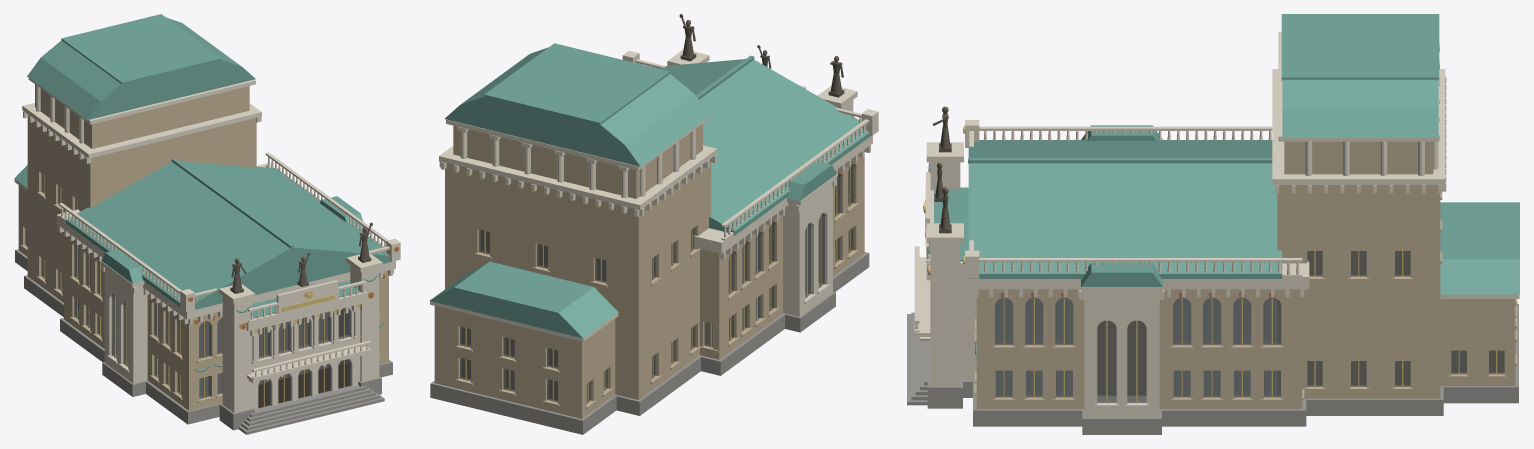
The model's file is divadlo_mlada_boleslav.glb.
The picture shows the model from 3 angles, left to right: view 1: azimuth 30°, elevation 25°; view 2: azimuth 150°, elevation 25°; view 3: azimuth 270°, elevation 25°; orthographic projection. The views are drawn at different scales.
Parts seen in each view (by area): view 1: Strechy_krytina, Vyzdoba_detail, Provaziste_jadro, Nastavba_jadro, Jeviste_bokZ_pas_horni, Pylon_Probuzeni_naroda, Vstupni_schodiste, Sokl_hlavni, Jeviste_bokZ_pas1, Pylon_Vitezstvi_umeni, Bok_Zapad_pas1, Schodiste_Zapad_pilir0_0 (+15 smaller); view 2: Strechy_krytina, Vyzdoba_detail, Jeviste_zad_pas_horni, Nastavba_jadro, Jeviste_bokZ_pas1, Jeviste_bokZ_pas_horni, Sokl_pristavba, Jeviste_zad_pas1, Sokl_hlavni, Bok_Zapad_pas1, Pristavba_zad_pas_horni, Pristavba_bokZ_pas_horni (+38 smaller); view 3: Strechy_krytina, Vyzdoba_detail, Sokl_hlavni, Jeviste_bokV_pas1, Jeviste_bokV_pas_horni, Bok_Vychod_pas1, Pylon_Vitezstvi_umeni, Nastavba_jadro, Pristavba_bokV_pas_horni, Bok_Vychod_pas0, Sokl_jeviste, Schodiste_Vychod_pas_horni (+42 smaller).
Part boxes in pixels (<box>): Strechy_krytina: <box>14,14,391,318</box>; Vyzdoba_detail: <box>14,78,400,384</box>; Provaziste_jadro: <box>95,119,251,293</box>; Nastavba_jadro: <box>35,84,249,148</box>; Jeviste_bokZ_pas_horni: <box>27,115,95,208</box>; Pylon_Probuzeni_naroda: <box>222,296,251,412</box>; Vstupni_schodiste: <box>238,385,384,434</box>; Sokl_hlavni: <box>60,307,392,424</box>; Jeviste_bokZ_pas1: <box>27,184,64,273</box>; Pylon_Vitezstvi_umeni: <box>350,265,379,381</box>; Bok_Zapad_pas1: <box>64,271,194,380</box>; Schodiste_Zapad_pilir0_0: <box>128,305,147,373</box>; Strechy_krytina: <box>429,43,870,338</box>; Vyzdoba_detail: <box>430,14,878,341</box>; Jeviste_zad_pas_horni: <box>451,164,632,266</box>; Nastavba_jadro: <box>453,124,702,198</box>; Jeviste_bokZ_pas1: <box>632,248,699,366</box>; Jeviste_bokZ_pas_horni: <box>632,159,711,268</box>; Sokl_pristavba: <box>430,381,616,434</box>; Jeviste_zad_pas1: <box>451,247,632,364</box>; Sokl_hlavni: <box>699,234,869,375</box>; Bok_Zapad_pas1: <box>713,198,864,325</box>; Pristavba_zad_pas_horni: <box>441,307,575,354</box>; Pristavba_bokZ_pas_horni: <box>575,319,615,387</box>; Strechy_krytina: <box>934,14,1519,294</box>; Vyzdoba_detail: <box>914,31,1519,354</box>; Sokl_hlavni: <box>973,298,1306,426</box>; Jeviste_bokV_pas1: <box>1277,275,1440,360</box>; Jeviste_bokV_pas_horni: <box>1277,185,1440,250</box>; Bok_Vychod_pas1: <box>976,343,1302,370</box>; Pylon_Vitezstvi_umeni: <box>930,243,960,386</box>; Nastavba_jadro: <box>1284,141,1433,174</box>; Pristavba_bokV_pas_horni: <box>1440,299,1515,350</box>; Bok_Vychod_pas0: <box>976,395,1302,408</box>; Sokl_jeviste: <box>1306,386,1443,415</box>; Schodiste_Vychod_pas_horni: <box>1084,292,1159,320</box>.
Size of what is drawn, in the model's own units: 27.96 by 27.8 by 48.9.
